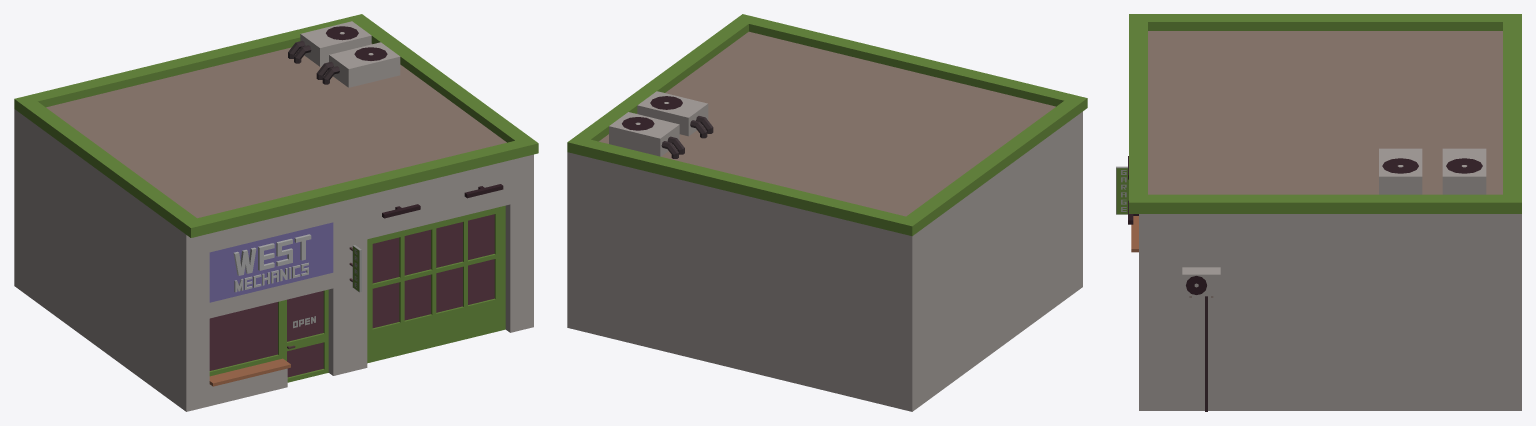
The model's file is Building_11.fbx.
3 views of the same model, side by side, from view 1: azimuth 30°, elevation 25°; view 2: azimuth 150°, elevation 25°; view 3: azimuth 270°, elevation 25° (orthographic). The views are drawn at different scales.
Parts seen in each view (by area): view 1: Building_11, Building_11LP; view 2: Building_11; view 3: Building_11.
Boxes of the visible parts, x1,y1,x2,y2 form: Building_11: (14,14,538,411); Building_11LP: (209,214,494,377); Building_11: (567,14,1087,411); Building_11: (1116,14,1521,411).
Bounding box in the file's own units: 11.38 × 5.95 × 9.94.
